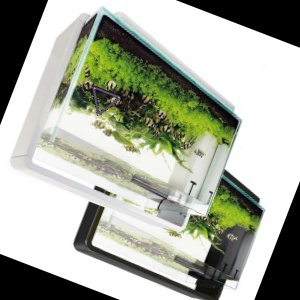triangle: (89, 81, 120, 117)
